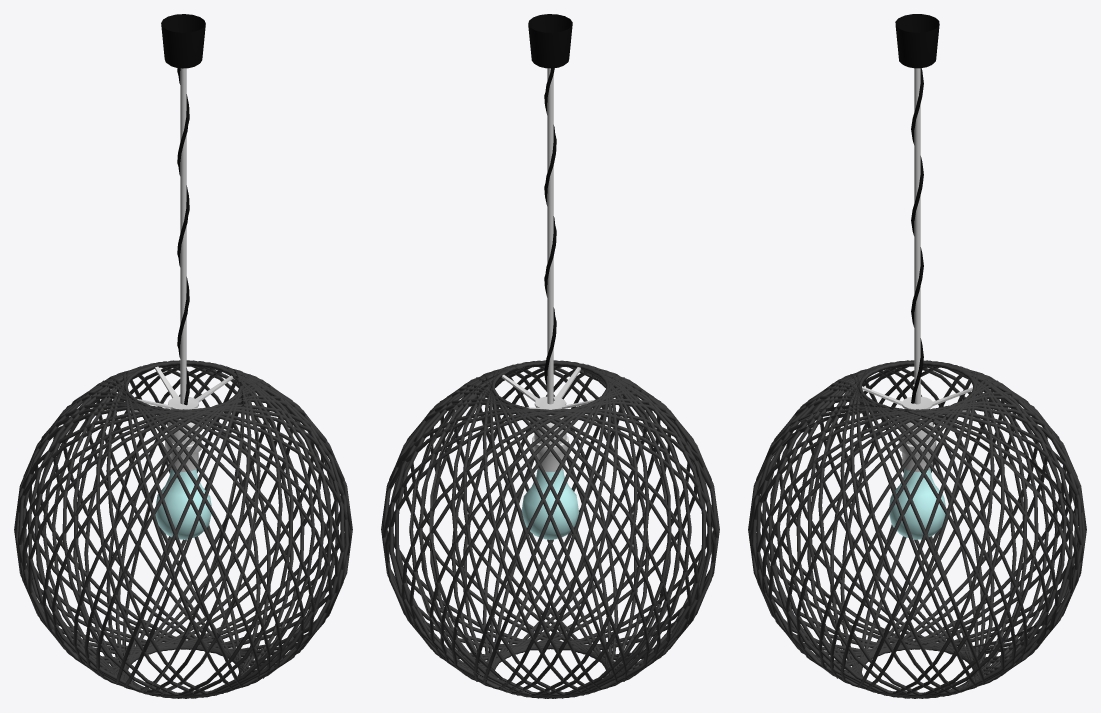
The model's file is SM_CeilingLight_01.fbx.
3 renders of one model, left to right at view 1: azimuth 30°, elevation 25°; view 2: azimuth 150°, elevation 25°; view 3: azimuth 270°, elevation 25°, orthographic.
Parts seen in each view (by area): view 1: SM_CeilingLight_01_LOD0; view 2: SM_CeilingLight_01_LOD0; view 3: SM_CeilingLight_01_LOD0.
Part boxes in pixels (x1,y1,x2,y2): SM_CeilingLight_01_LOD0: [14, 14, 352, 698]; SM_CeilingLight_01_LOD0: [381, 14, 719, 698]; SM_CeilingLight_01_LOD0: [748, 14, 1086, 698].
Bounding box in the file's own units: 34.4 × 34.4 × 72.85.
